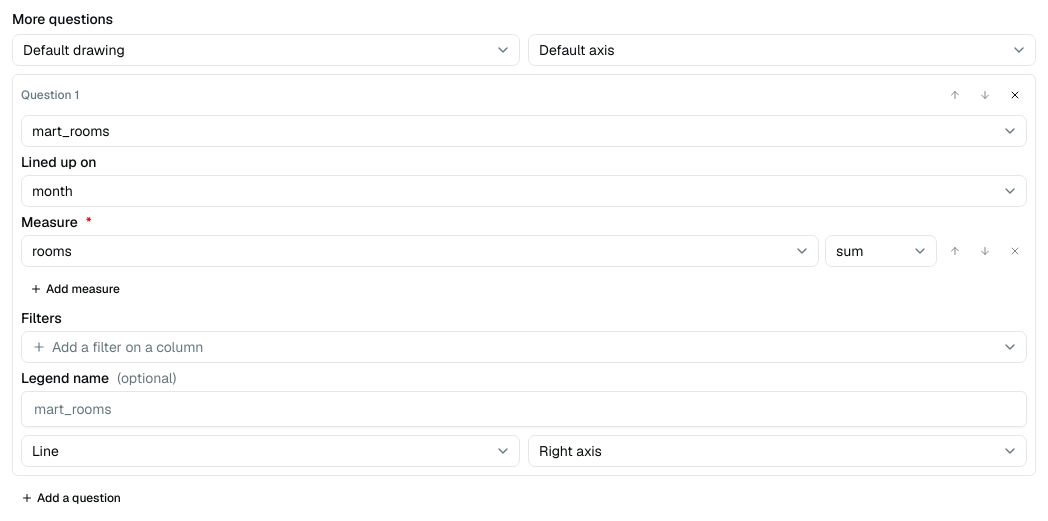
Test: LayersSection › loads the picked source's columns once and lists only the dimensions that line up with the chart's
Note: The chart's dimension is a date and ungrained: a timestamp does not line up, and text never does.
Step 1. Click the dropdown named "Question 1 dimension" → coordinates (52, 191), box [21,175,1027,207]
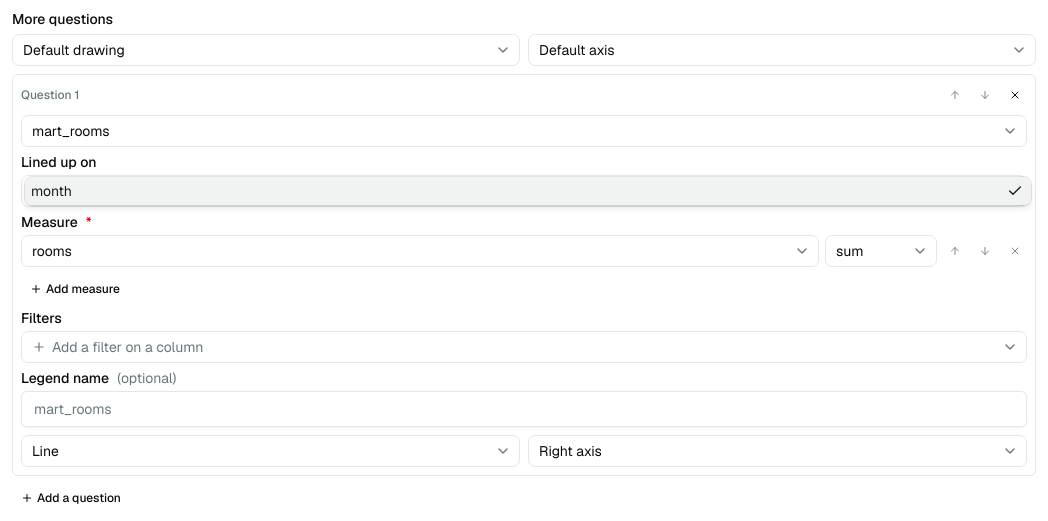
Expected: the options read "month", in this order, [25,177,1031,205]
